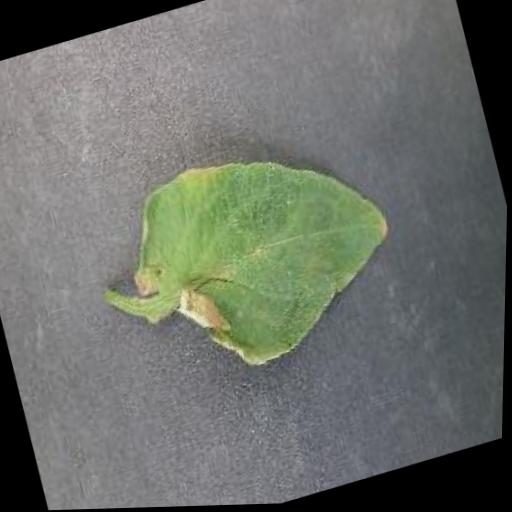Late Blight: (105, 115, 423, 399)
